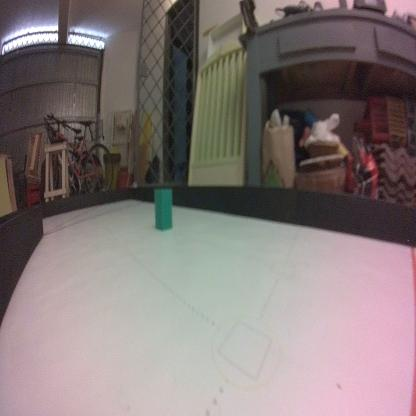green: (152, 188, 174, 234)
